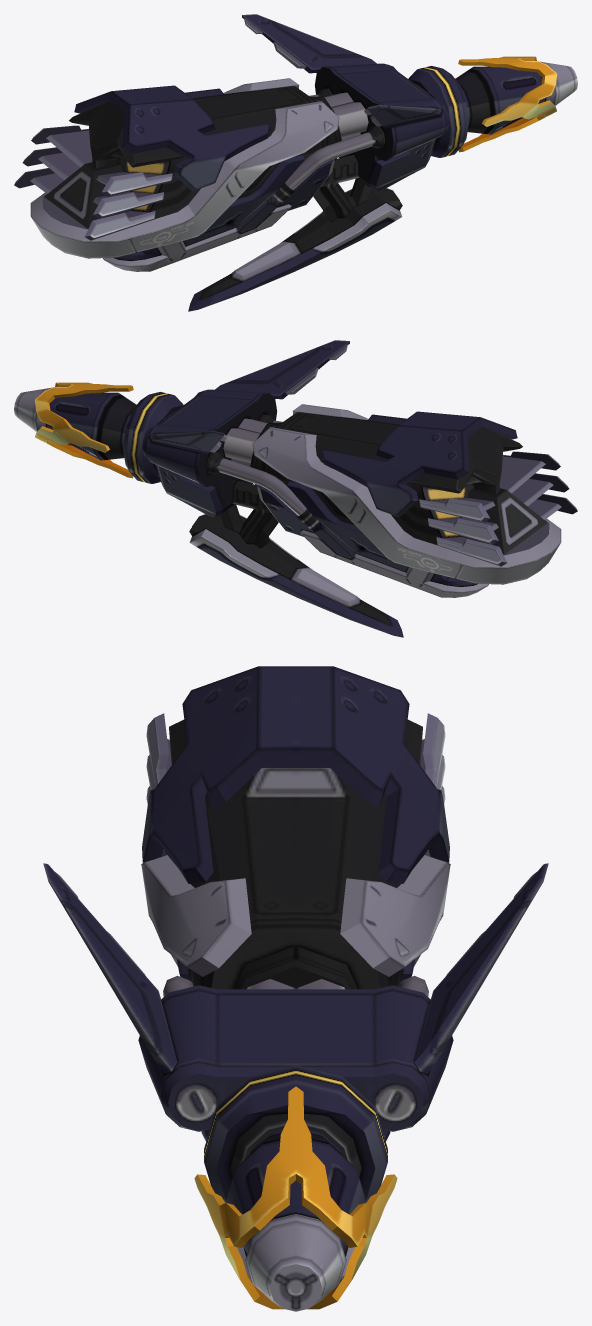
Rendered from Weapon_Cannon_B23_173_4.fbx.
3 views of the same model, one above another, from view 1: azimuth 30°, elevation 25°; view 2: azimuth 150°, elevation 25°; view 3: azimuth 270°, elevation 25° (orthographic). The views are drawn at different scales.
Visible parts, largest first — view 1: GunOut, GunIn; view 2: GunOut, GunIn; view 3: GunOut, GunIn.
Boxes of the visible parts, <box> form: GunOut: <box>14,78,385,271</box>; GunIn: <box>188,14,577,311</box>; GunOut: <box>206,404,577,597</box>; GunIn: <box>14,340,403,637</box>; GunOut: <box>141,666,450,996</box>; GunIn: <box>43,863,548,1311</box>.
Size of the model in its own units: 0.457 by 0.1892 by 0.1883.
1 material, 1 textured.
